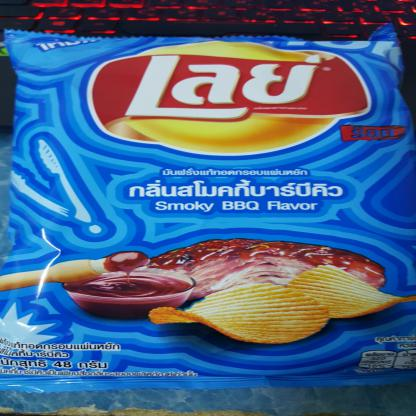potatochip: (0, 13, 416, 400)
